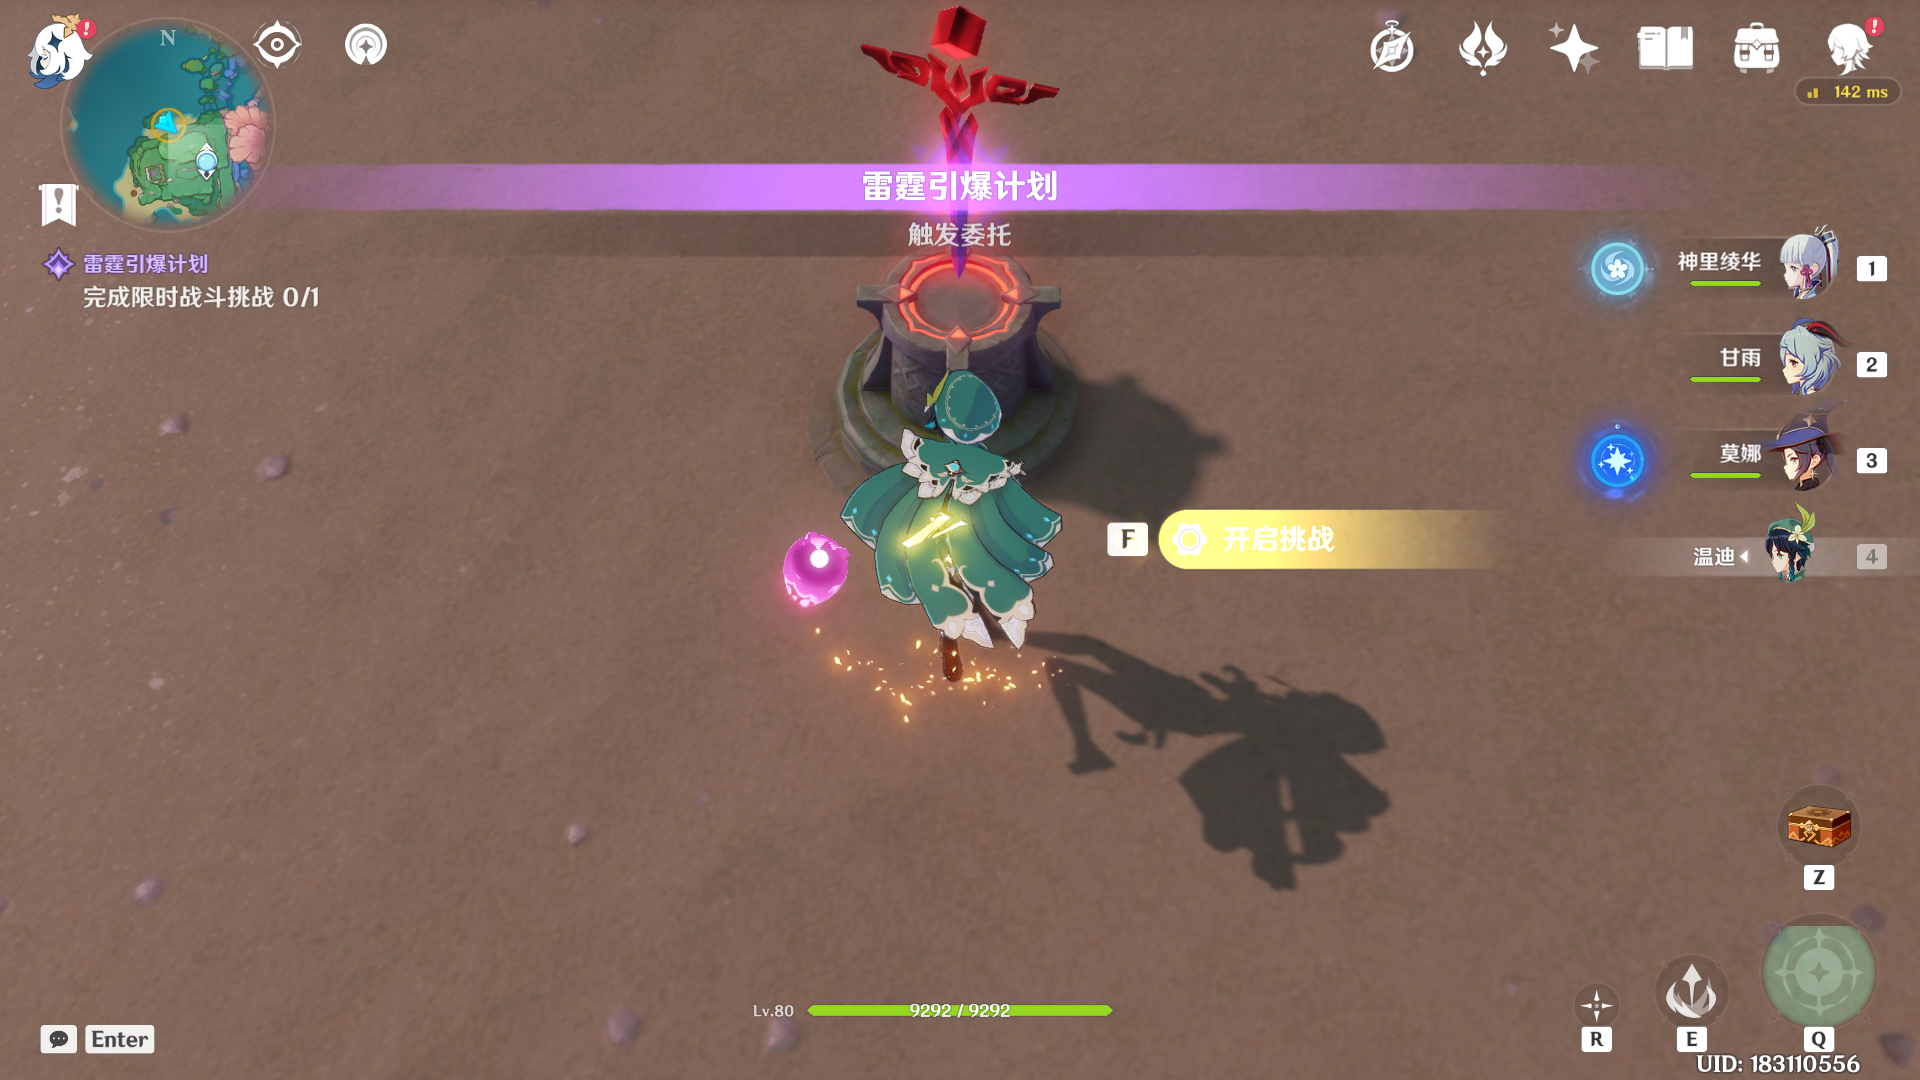character: (791, 345, 1093, 719)
